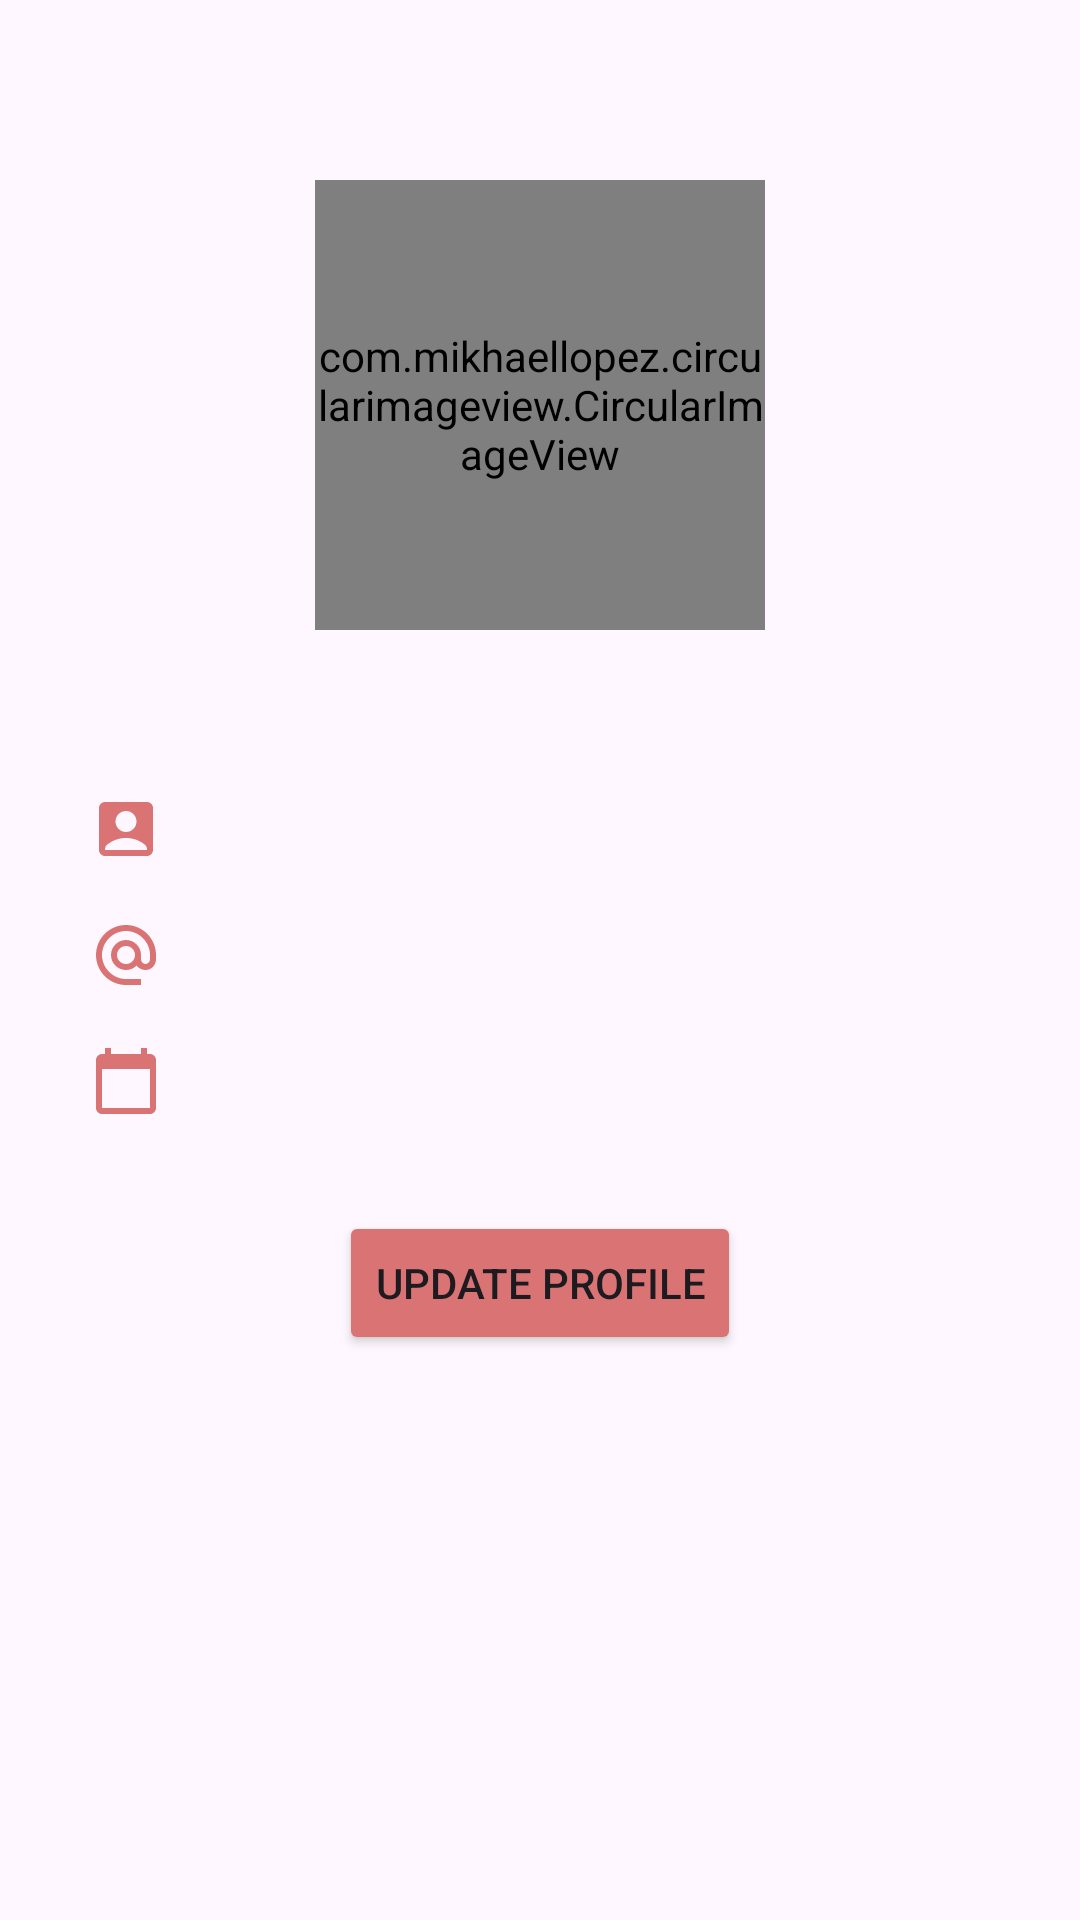

Screen size 1080w x 1920h. Icon name, then its box in pixels as (x1, y1, x2, y2):
account box: (99, 802, 153, 856)
alternate email: (96, 925, 156, 985)
calendar today: (96, 1048, 156, 1114)
